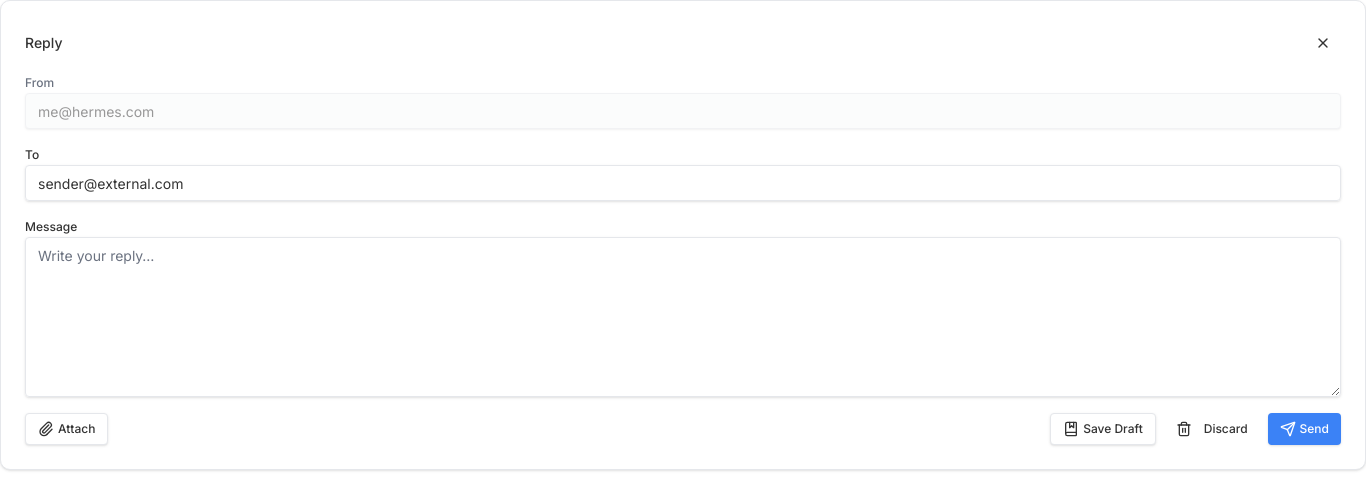
Test: ReplyComposer › save draft button › shows Draft saved indicator after Save Draft is clicked
This screenshot has width=1366, height=488.
Step 1. Type "Hello" into the text box with test id "reply-body" → [683, 317], box [25,237,1341,397]
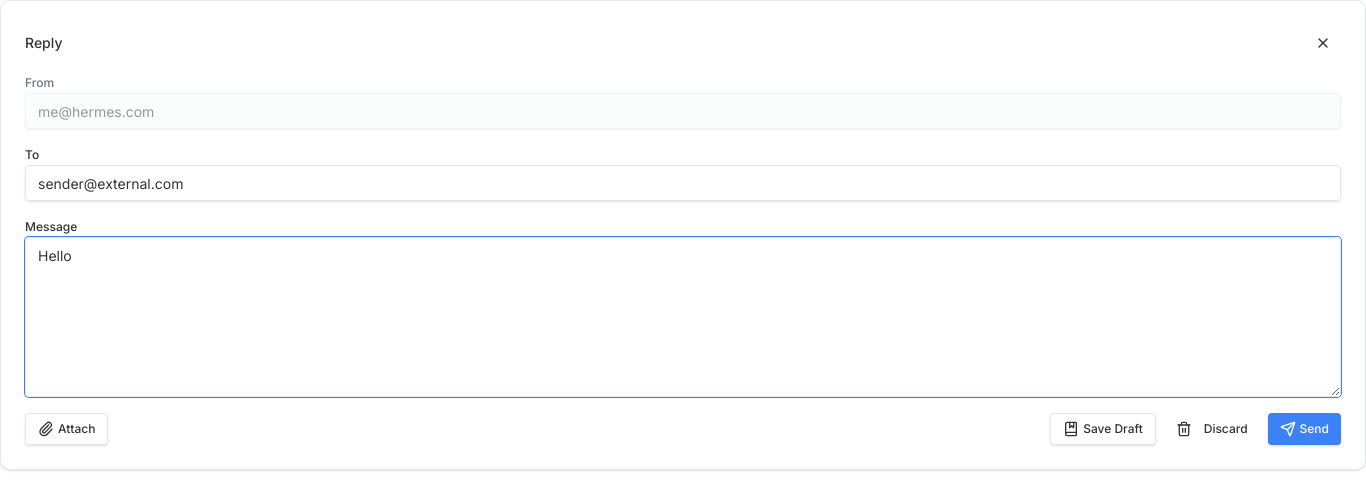
Step 2. Click the button with test id "save-draft-button" → [1103, 429], box [1050,413,1156,445]
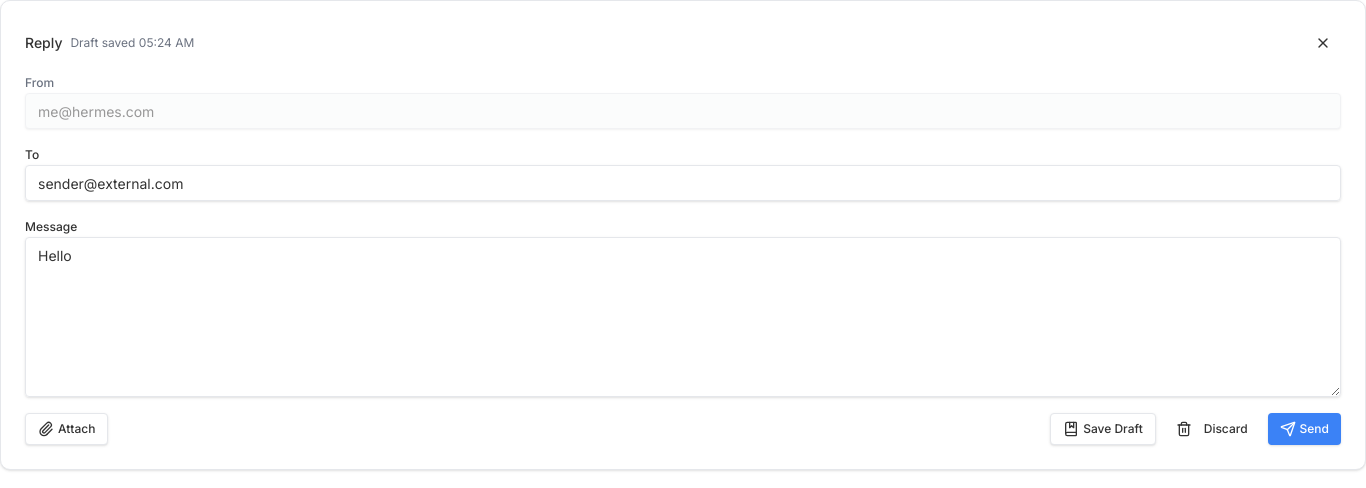
Now the text "Draft saved 05:24 AM" is shown, box [70,35,194,51]
